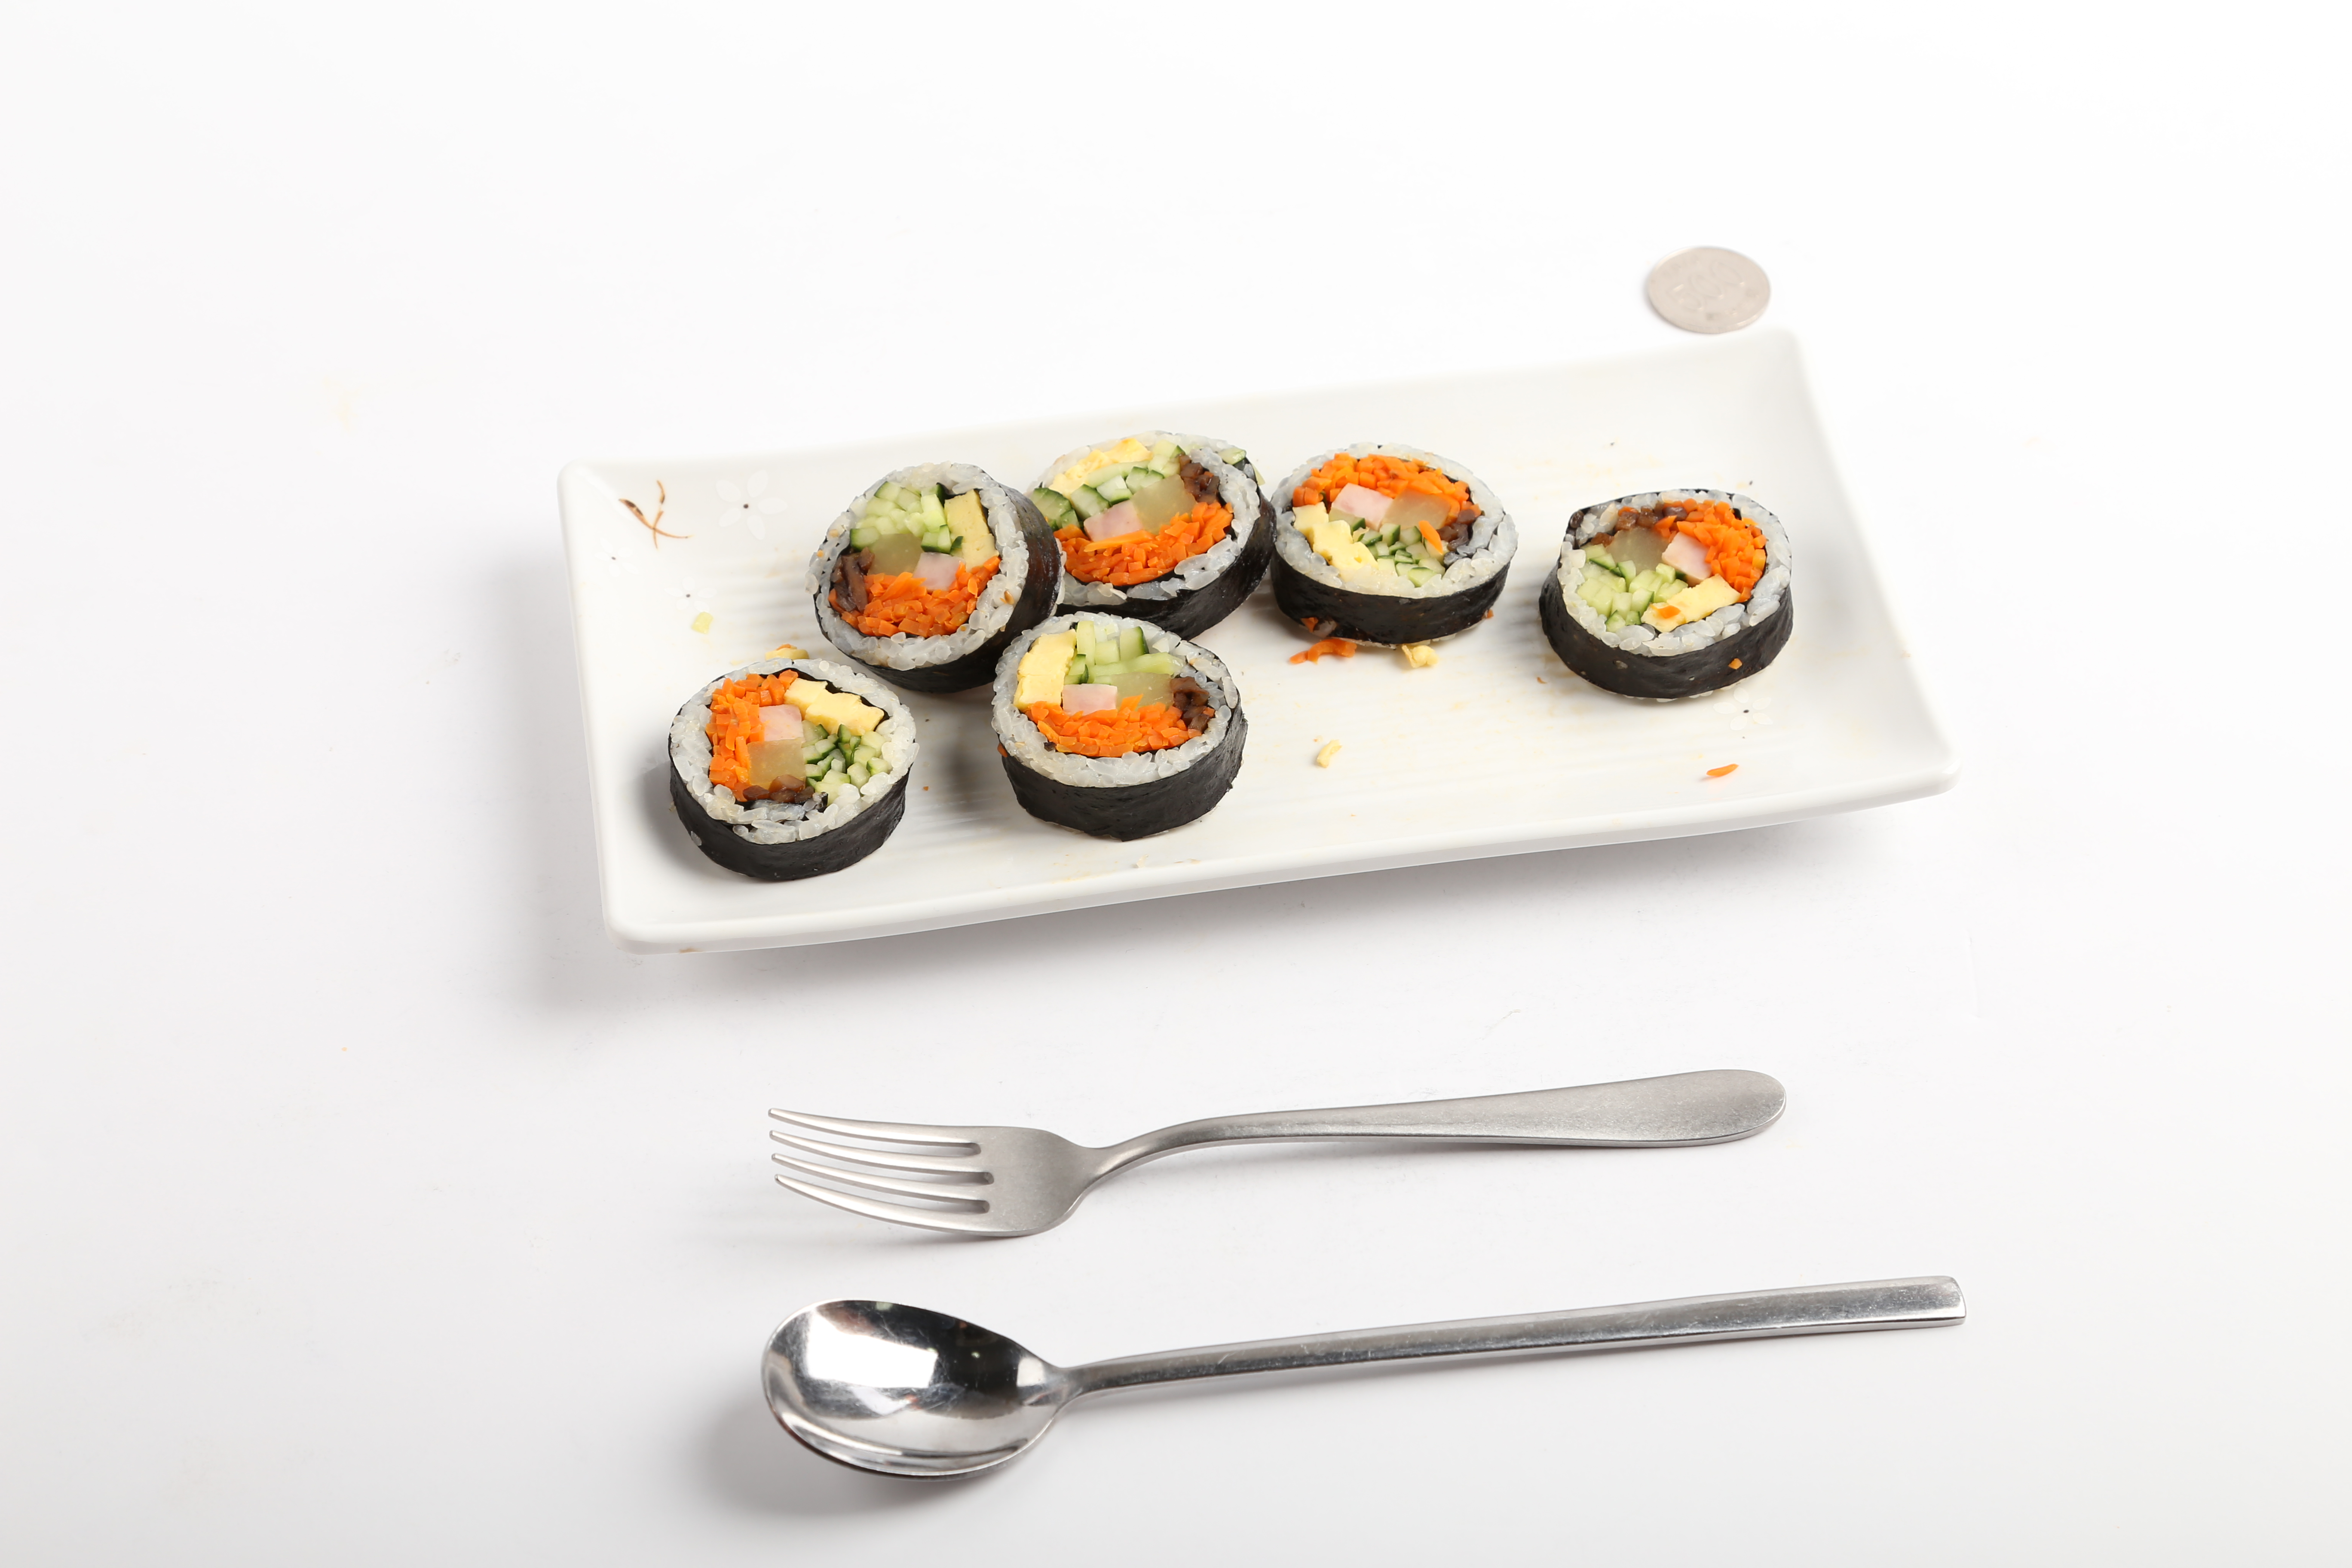dish: (551, 327, 1963, 954)
ref_coin: (1636, 240, 1778, 332)
ref_fork: (765, 1081, 1202, 1248)
ref_spoon: (759, 1288, 1151, 1487)
김밥: (658, 425, 1804, 892)
